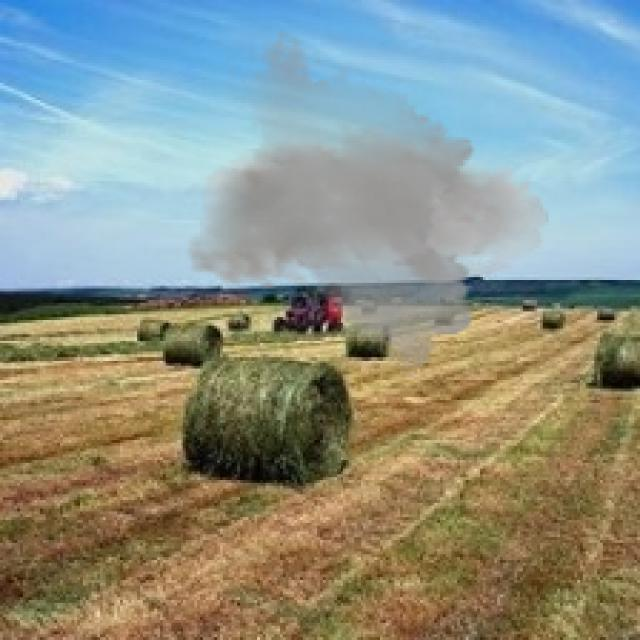smoke: (186, 29, 548, 380)
